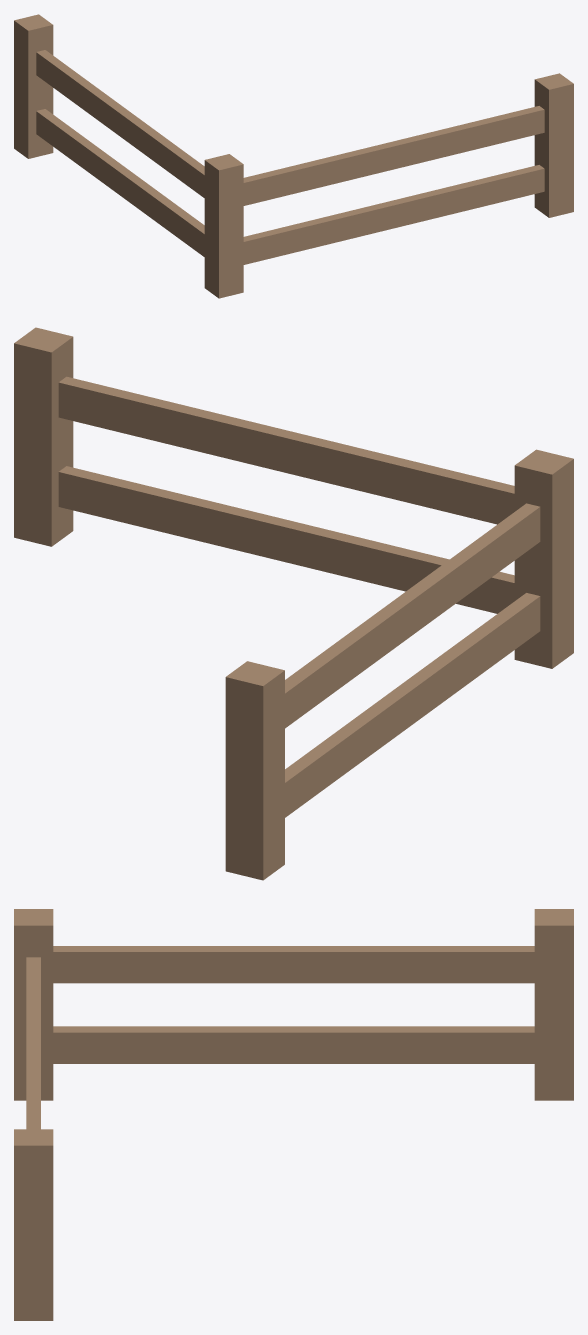
Rendered from kenney_nature-kit__fence_corner.fbx.
3 views of the same model, one above another, from view 1: azimuth 30°, elevation 25°; view 2: azimuth 150°, elevation 25°; view 3: azimuth 270°, elevation 25° (orthographic). The views are drawn at different scales.
Parts seen in each view (by area): view 1: kenney_nature-kit__fence_corner__cave_wood; view 2: kenney_nature-kit__fence_corner__cave_wood; view 3: kenney_nature-kit__fence_corner__cave_wood.
Part boxes in pixels (box(x1,y1,x2,y2)): kenney_nature-kit__fence_corner__cave_wood: box(14, 14, 573, 298); kenney_nature-kit__fence_corner__cave_wood: box(14, 327, 573, 880); kenney_nature-kit__fence_corner__cave_wood: box(14, 909, 573, 1320).
Bounding box in the file's own units: 3.57 × 1.23 × 3.57.
